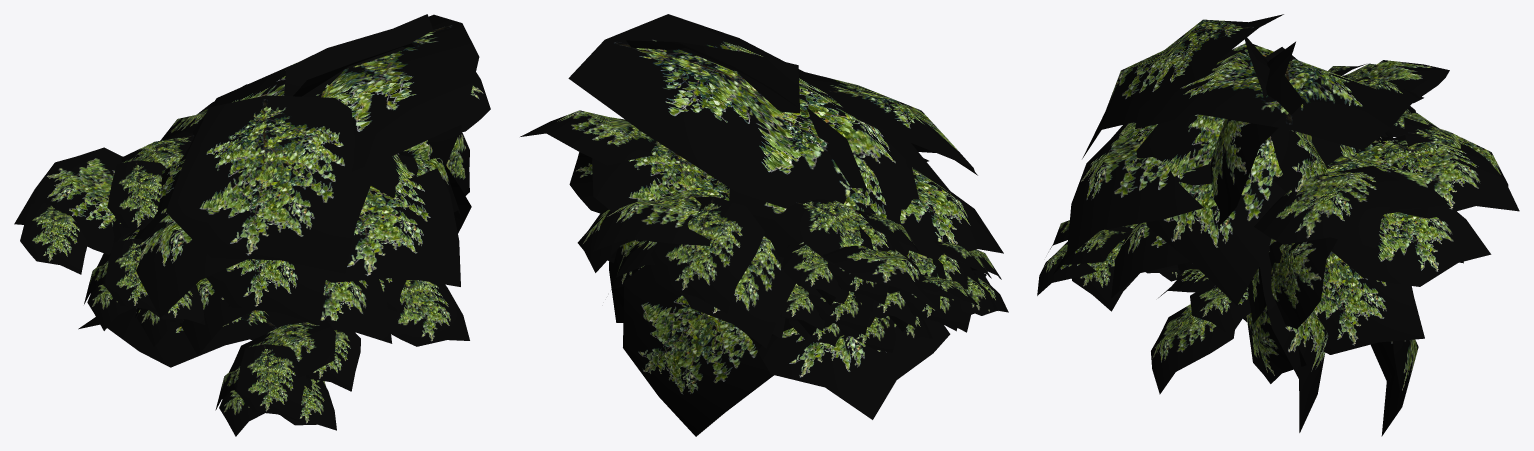
The model's file is erbaAlbero.fbx.
The picture shows the model from 3 angles, left to right: view 1: azimuth 30°, elevation 25°; view 2: azimuth 150°, elevation 25°; view 3: azimuth 270°, elevation 25°; orthographic projection. The views are drawn at different scales.
Visible parts, largest first — view 1: pPlane156_lambert2_0; view 2: pPlane156_lambert2_0; view 3: pPlane156_lambert2_0.
Part boxes in pixels (x1=…): pPlane156_lambert2_0: x1=14, y1=14, x2=490, y2=436; pPlane156_lambert2_0: x1=520, y1=14, x2=1008, y2=436; pPlane156_lambert2_0: x1=1037, y1=14, x2=1519, y2=436.
Size of the model in its own units: 1398 by 1040 by 1150.
